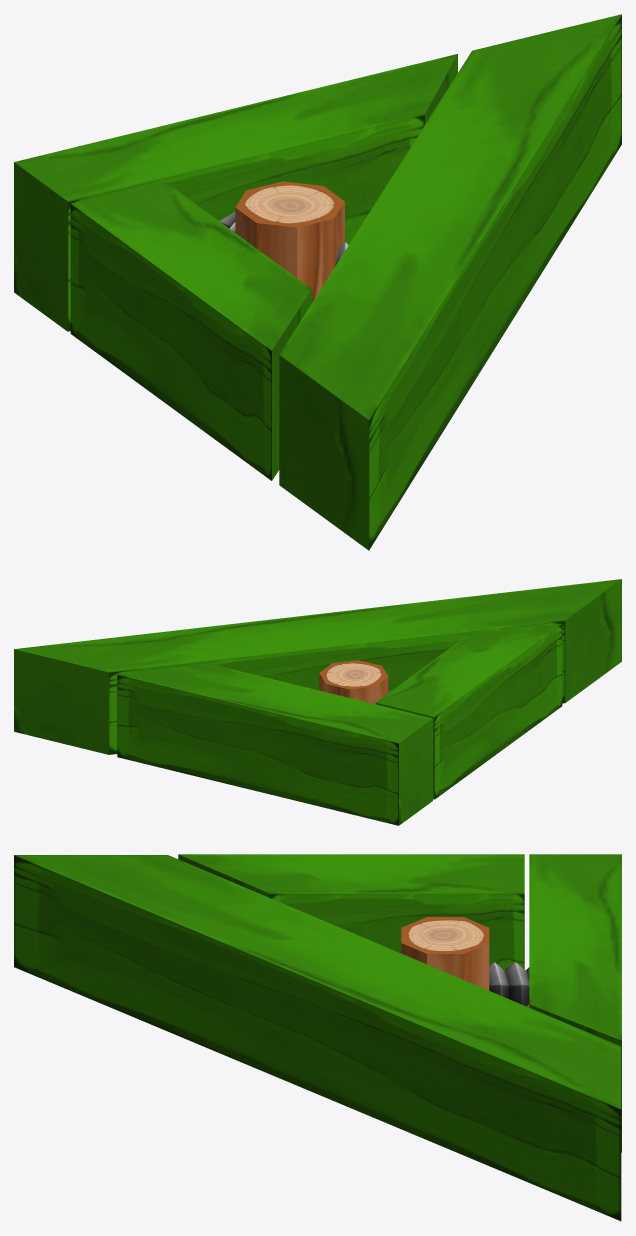
File: triangle_green_02.fbx
The picture shows the model from 3 angles, top to bottom: view 1: azimuth 30°, elevation 25°; view 2: azimuth 150°, elevation 25°; view 3: azimuth 270°, elevation 25°; orthographic projection. The views are drawn at different scales.
Parts seen in each view (by area): view 1: wall_70, wall_72, wall_71, Middle_6; view 2: wall_70, wall_71, wall_72, Middle_6; view 3: wall_70, wall_72, wall_71, Middle_6, spring_5.
Part boxes in pixels (x1,y1,x2,y2): wall_70: [279, 14, 621, 550]; wall_72: [70, 181, 311, 480]; wall_71: [14, 54, 457, 331]; Middle_6: [235, 181, 344, 302]; wall_70: [14, 579, 621, 754]; wall_71: [117, 663, 432, 825]; wall_72: [375, 623, 562, 799]; Middle_6: [319, 660, 388, 704]; wall_70: [14, 855, 621, 1221]; wall_72: [178, 854, 524, 970]; wall_71: [529, 854, 621, 1152]; Middle_6: [401, 917, 489, 990]; spring_5: [489, 962, 529, 1006].
Bounding box in the file's own units: 195 × 40 × 197.
